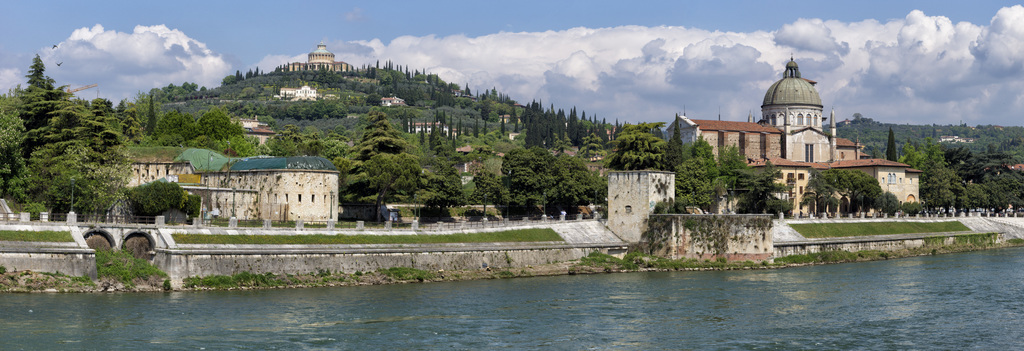Tree: (0, 53, 1023, 221)
